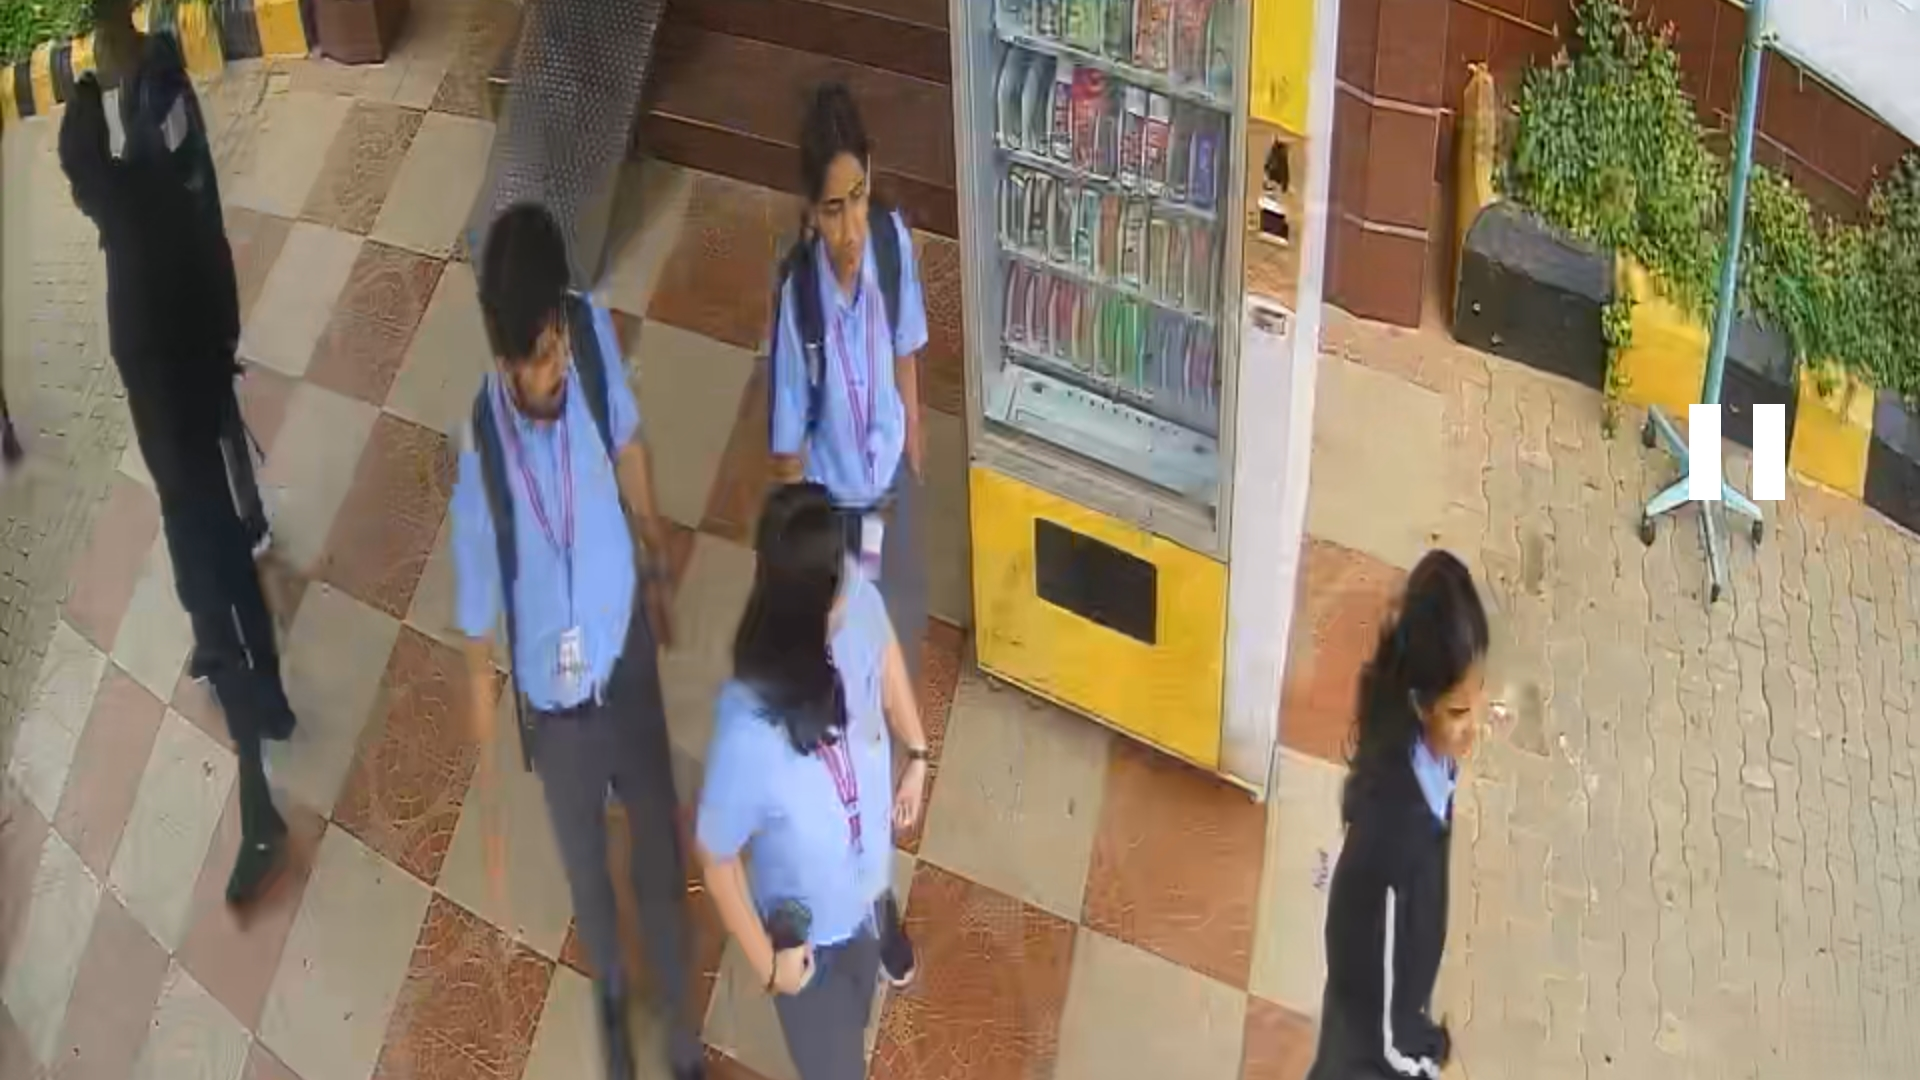not intruder: (439, 171, 709, 1080), (688, 483, 943, 1080), (767, 78, 953, 640)
